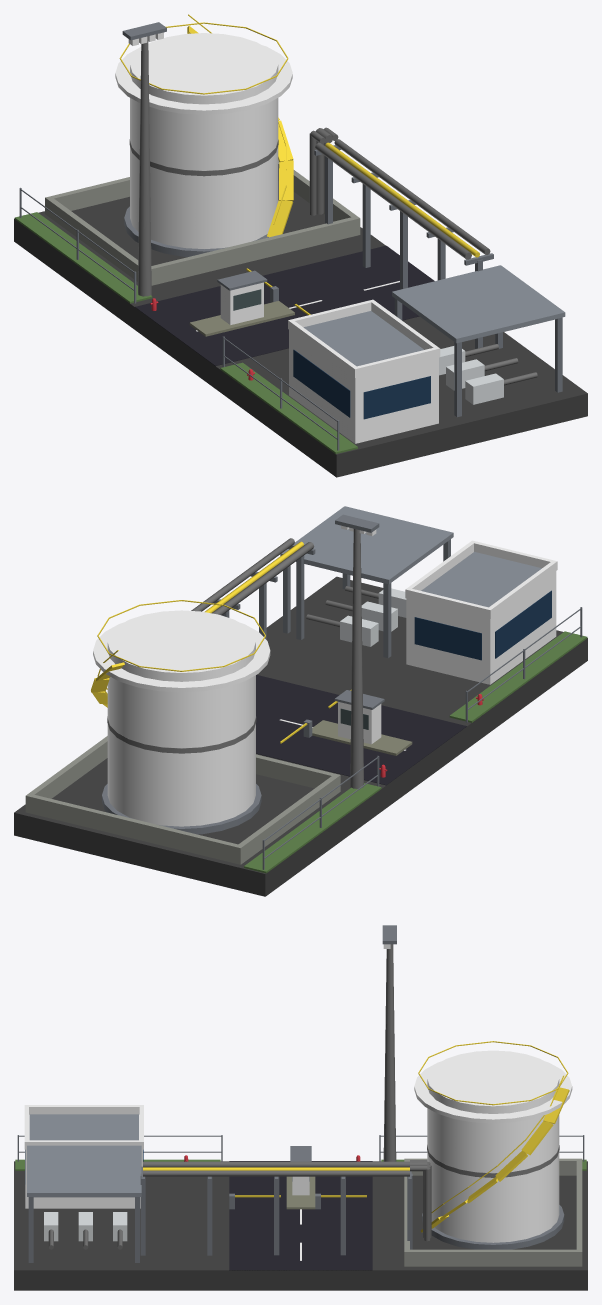
The model's file is port_building.fbx.
3 renders of one model, top to bottom at view 1: azimuth 30°, elevation 25°; view 2: azimuth 150°, elevation 25°; view 3: azimuth 270°, elevation 25°, orthographic. The views are drawn at different scales.
Visible parts, largest first — view 1: a402_0_port_building; view 2: a402_0_port_building; view 3: a402_0_port_building.
Boxes of the visible parts, box(x1,y1,x2,y2) form: a402_0_port_building: box(14, 14, 587, 477); a402_0_port_building: box(14, 506, 587, 896); a402_0_port_building: box(14, 925, 587, 1290).
Size of the model in its own units: 18 by 19.75 by 40.
